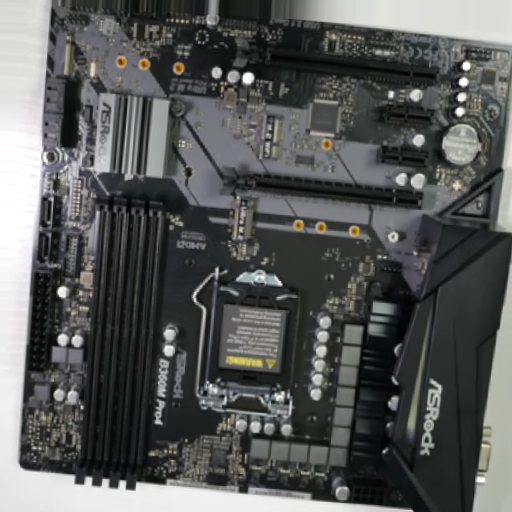CPU: (199, 270, 303, 418)
GPU: (235, 36, 440, 87), (219, 167, 424, 211)
MOTHERBOARD: (24, 3, 509, 511)
RAM: (73, 192, 166, 494)
SSD: (234, 194, 256, 242), (260, 115, 278, 160), (54, 34, 70, 76)
